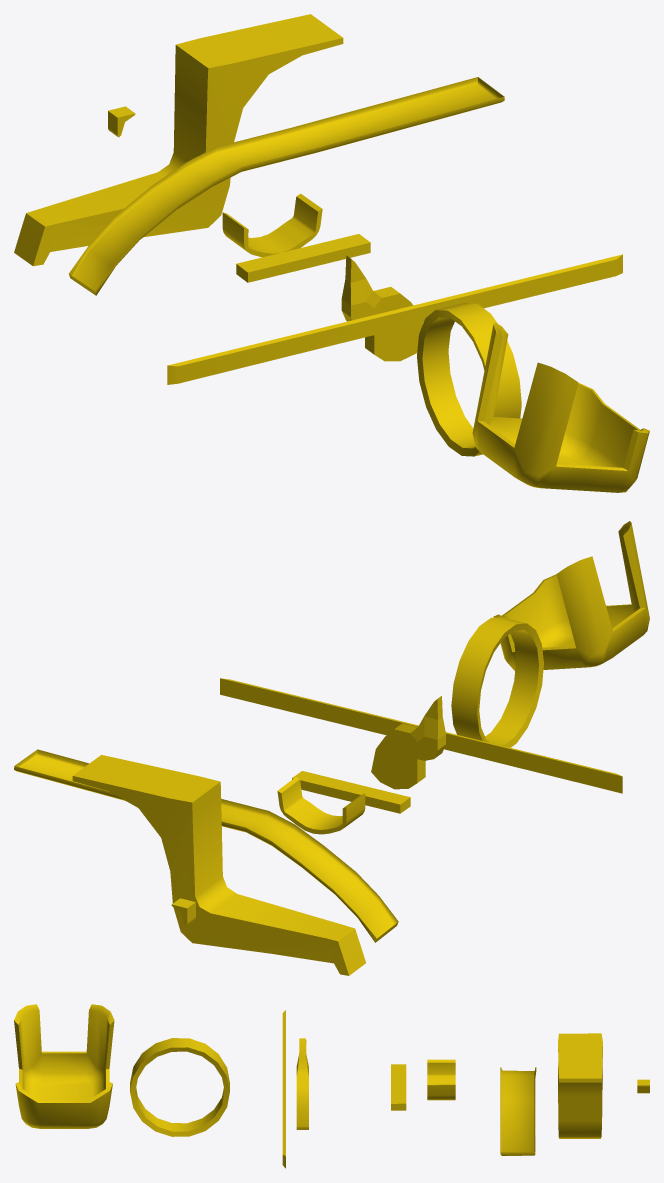
The model's file is ConjuntoEnfeites.fbx.
3 renders of one model, top to bottom at view 1: azimuth 30°, elevation 25°; view 2: azimuth 150°, elevation 25°; view 3: azimuth 270°, elevation 25°, orthographic. The views are drawn at different scales.
Parts seen in each view (by area): view 1: Gatilho2, BaseEnfeite, Apoio, EnfeiteLateral, Circulo, AsasArma, Tiro2, Cubinho; view 2: Gatilho2, BaseEnfeite, Apoio, Circulo, EnfeiteLateral, AsasArma, Tiro2, Cubinho; view 3: BaseEnfeite, Gatilho2, Circulo, Apoio, Tiro2, AsasArma, Cubinho, EnfeiteLateral.
Boxes of the visible parts, bbox=[...] form: Gatilho2: bbox=[14, 14, 343, 266]; BaseEnfeite: bbox=[472, 322, 649, 492]; Apoio: bbox=[69, 77, 504, 295]; EnfeiteLateral: bbox=[167, 254, 622, 384]; Circulo: bbox=[417, 302, 521, 456]; AsasArma: bbox=[341, 255, 422, 361]; Tiro2: bbox=[222, 193, 322, 257]; Cubinho: bbox=[236, 234, 370, 282]; Gatilho2: bbox=[72, 755, 365, 975]; BaseEnfeite: bbox=[493, 521, 649, 670]; Apoio: bbox=[14, 749, 398, 942]; Circulo: bbox=[451, 617, 543, 747]; EnfeiteLateral: bbox=[220, 678, 622, 793]; AsasArma: bbox=[371, 696, 445, 789]; Tiro2: bbox=[277, 777, 365, 834]; Cubinho: bbox=[292, 771, 410, 813]; BaseEnfeite: bbox=[14, 1004, 114, 1128]; Gatilho2: bbox=[558, 1033, 602, 1138]; Circulo: bbox=[130, 1038, 229, 1136]; Apoio: bbox=[500, 1067, 536, 1155]; Tiro2: bbox=[427, 1059, 455, 1100]; AsasArma: bbox=[296, 1038, 308, 1129]; Cubinho: bbox=[391, 1064, 406, 1110]; EnfeiteLateral: bbox=[282, 1010, 285, 1168].
Size of the model in its own units: 325 by 109 by 544.
